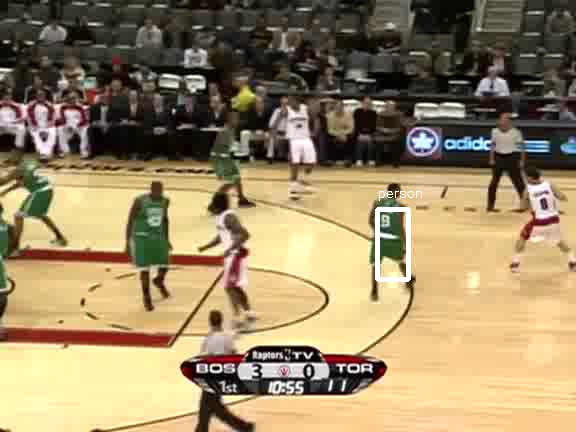person: (371, 193, 405, 274), (370, 193, 404, 274), (372, 193, 406, 274), (371, 192, 405, 273), (371, 194, 405, 275)
target_negative: (370, 47, 517, 378), (377, 20, 521, 181), (86, 248, 244, 385), (476, 272, 553, 388), (485, 303, 529, 419), (539, 112, 543, 139)
